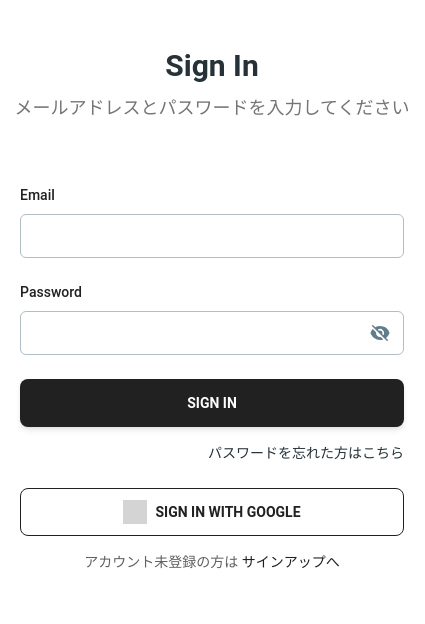
Test: SignInForm › メールサインインが失敗した場合、エラーメッセージを表示する
Type "test@example.com" into the field labelled "Email" at [212, 236], box [20,214,404,258]
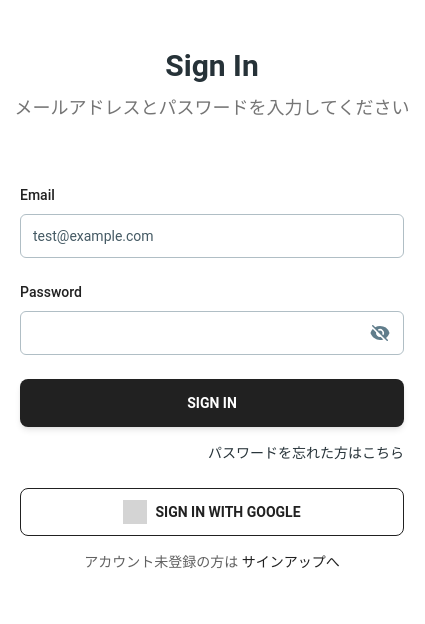
Type "wrongpassword" into the password field labelled "Password" at [212, 333], box [20,311,404,355]
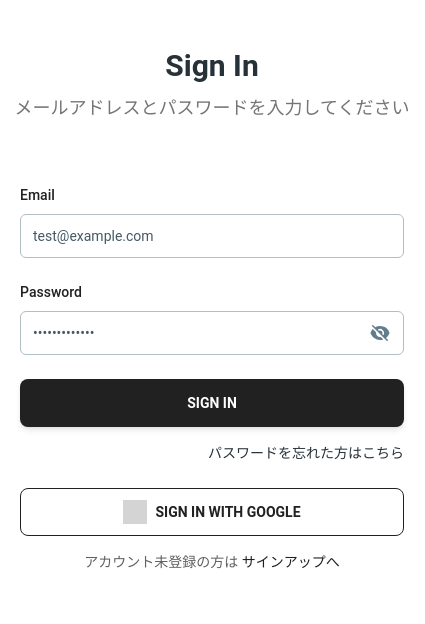
Click the button "Sign In" at [212, 403], box [20,379,404,427]
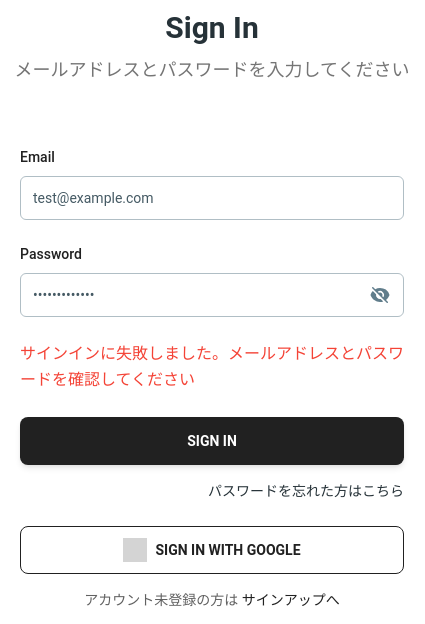
Now the text "サインインに失敗しました。メールアドレスとパスワードを確認してください" is shown, box [20,341,404,393]
